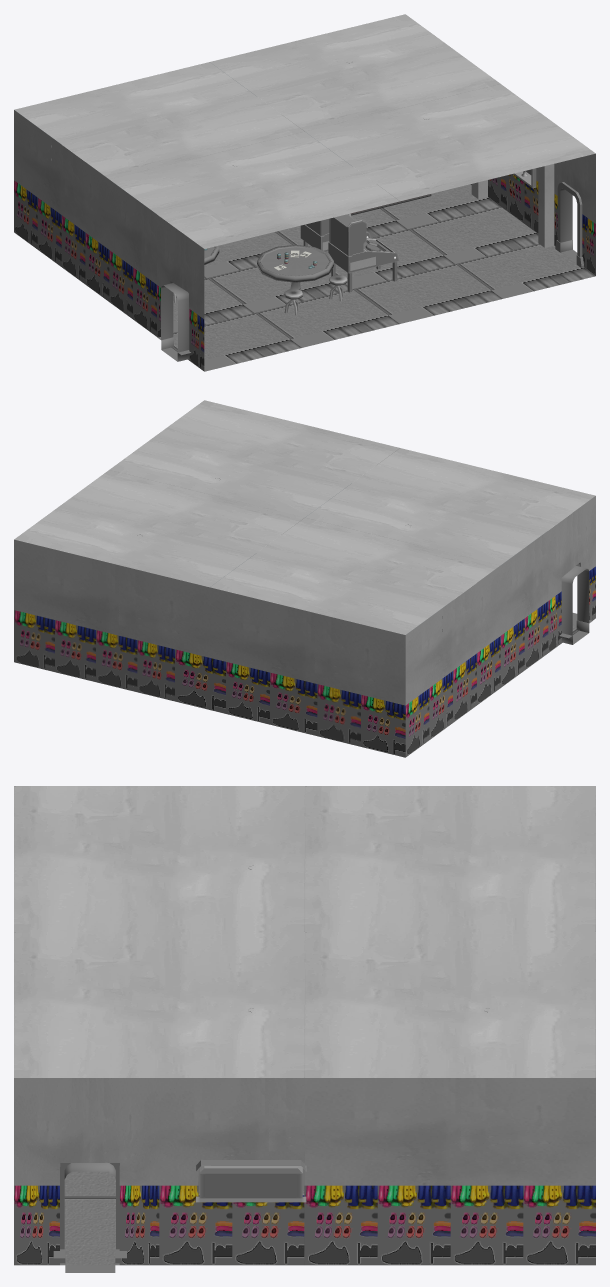
Rendered from MSH_Game_room_L2_R2_optimized.fbx.
The picture shows the model from 3 angles, top to bottom: view 1: azimuth 30°, elevation 25°; view 2: azimuth 150°, elevation 25°; view 3: azimuth 270°, elevation 25°; orthographic projection. The views are drawn at different scales.
Visible parts, largest first — view 1: lightmap1, lightmap0, lightmap-1; view 2: lightmap1, lightmap-1; view 3: lightmap1, lightmap0, lightmap-1.
Part boxes in pixels (bbox=[...]): lightmap1: bbox=[14, 14, 595, 371]; lightmap0: bbox=[51, 62, 536, 315]; lightmap-1: bbox=[161, 188, 577, 361]; lightmap1: bbox=[14, 400, 595, 757]; lightmap-1: bbox=[561, 566, 589, 644]; lightmap1: bbox=[14, 786, 595, 1265]; lightmap0: bbox=[196, 865, 489, 1202]; lightmap-1: bbox=[64, 1163, 115, 1272].
Size of the model in its own units: 20.61 by 5.88 by 16.51.
